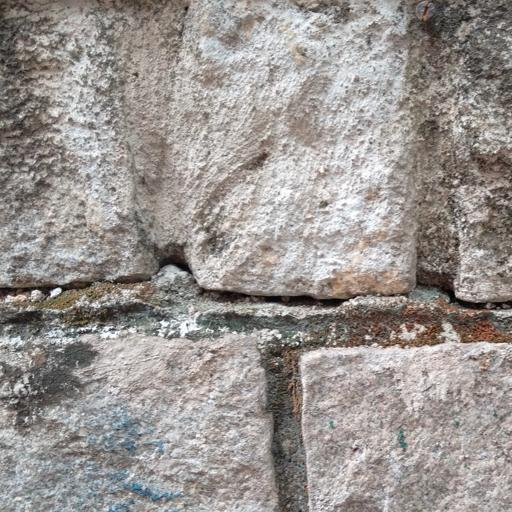major_crack: (0, 213, 512, 332)
